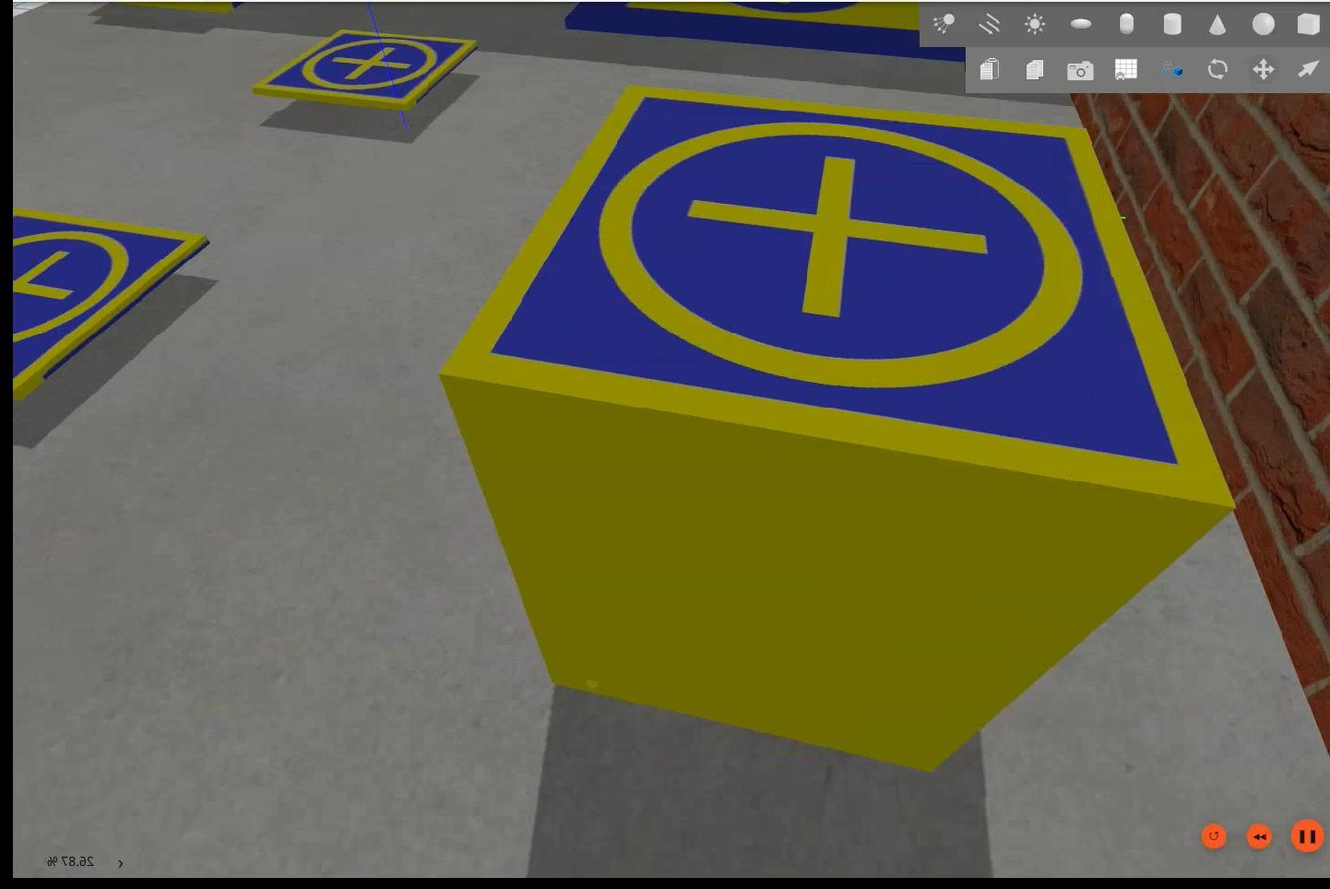small_base: (437, 88, 1235, 510), (6, 196, 209, 398), (250, 30, 478, 113)
